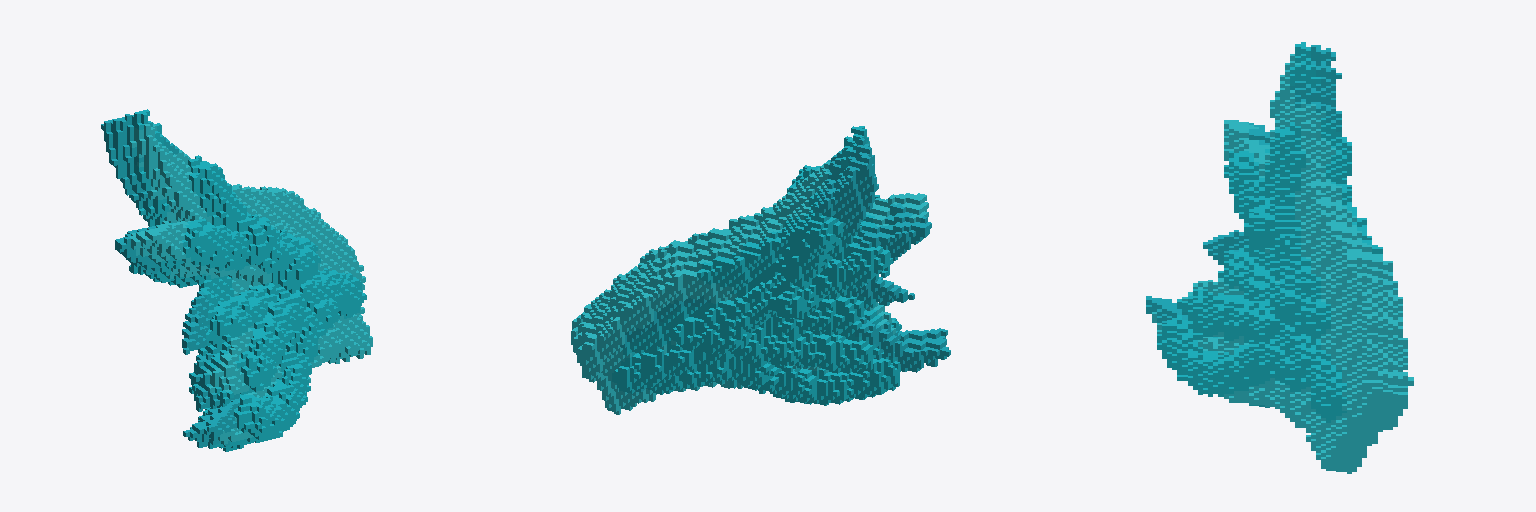
3 views of the same model, side by side, from view 1: azimuth 30°, elevation 25°; view 2: azimuth 150°, elevation 25°; view 3: azimuth 270°, elevation 25° (orthographic).
Visible parts, largest first — view 1: object 1; view 2: object 1; view 3: object 1.
Part boxes in pixels (left/top/right/bottom): object 1: left=101, top=109, right=372, bottom=451; object 1: left=571, top=126, right=950, bottom=414; object 1: left=1146, top=42, right=1413, bottom=473.
Bounding box in the file's own units: 6.7 × 6.9 × 5.2.
1 materials, 1 textured.